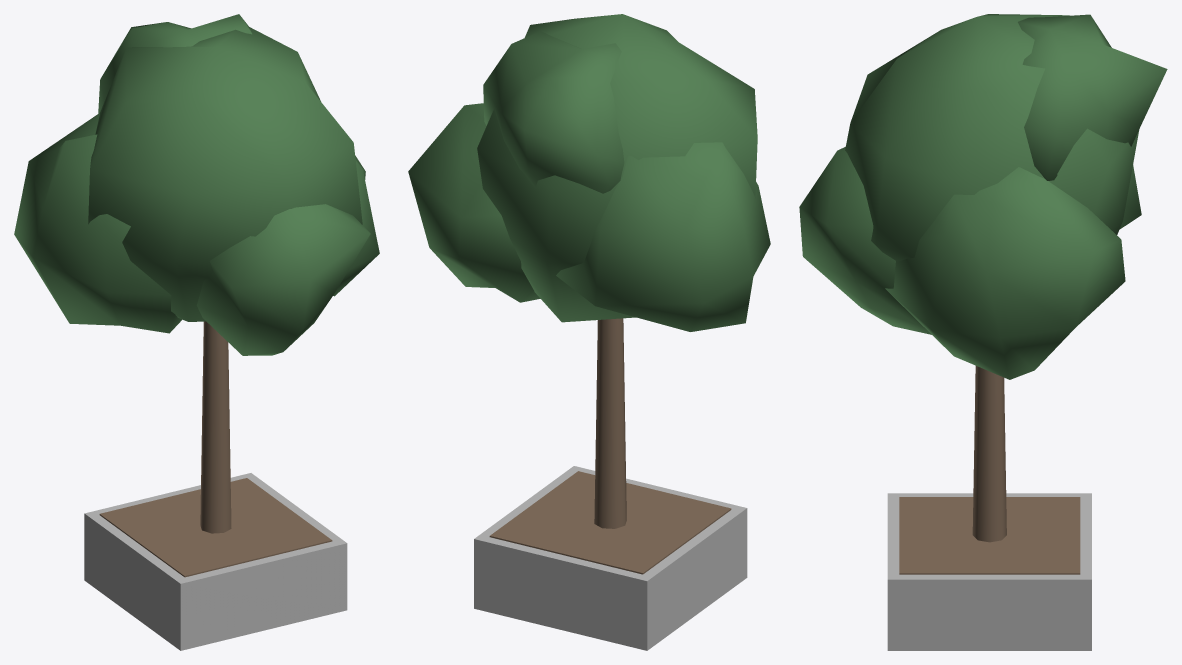
Rendered from StreetTree.glb.
The picture shows the model from 3 angles, left to right: view 1: azimuth 30°, elevation 25°; view 2: azimuth 150°, elevation 25°; view 3: azimuth 270°, elevation 25°; orthographic projection. The views are drawn at different scales.
Parts seen in each view (by area): view 1: StreetTree_sphere, StreetTree_cube, StreetTree_sphere.002, StreetTree_sphere.003, StreetTree_cube.001, StreetTree_cyl, StreetTree_sphere.004, StreetTree_sphere.001; view 2: StreetTree_sphere, StreetTree_sphere.002, StreetTree_cube, StreetTree_sphere.004, StreetTree_sphere.001, StreetTree_cube.001, StreetTree_cyl; view 3: StreetTree_sphere, StreetTree_sphere.001, StreetTree_cube, StreetTree_sphere.004, StreetTree_cube.001, StreetTree_sphere.003, StreetTree_cyl, StreetTree_sphere.002.
Boxes of the visible parts, x1,y1,x2,y2 form: StreetTree_sphere: (88,26,362,321); StreetTree_cube: (84,473,347,650); StreetTree_sphere.002: (14,113,181,333); StreetTree_sphere.003: (196,204,370,355); StreetTree_cube.001: (99,478,332,577); StreetTree_cyl: (200,321,231,533); StreetTree_sphere.004: (98,14,251,113); StreetTree_sphere.001: (333,155,379,296); StreetTree_sphere: (477,14,757,322); StreetTree_sphere.002: (556,142,770,331); StreetTree_cube: (474,466,747,650); StreetTree_sphere.004: (483,31,624,193); StreetTree_sphere.001: (408,103,540,302); StreetTree_cube.001: (489,471,731,574); StreetTree_cyl: (594,318,626,528); StreetTree_sphere: (845,14,1139,261); StreetTree_sphere.001: (885,167,1125,379); StreetTree_cube: (887,493,1091,650); StreetTree_sphere.004: (1018,14,1167,180); StreetTree_cube.001: (899,497,1080,574); StreetTree_sphere.003: (799,147,931,334); StreetTree_cyl: (972,366,1006,542); StreetTree_sphere.002: (1119,165,1141,229).
Bounding box in the file's own units: 2.42 × 4.13 × 2.34.
